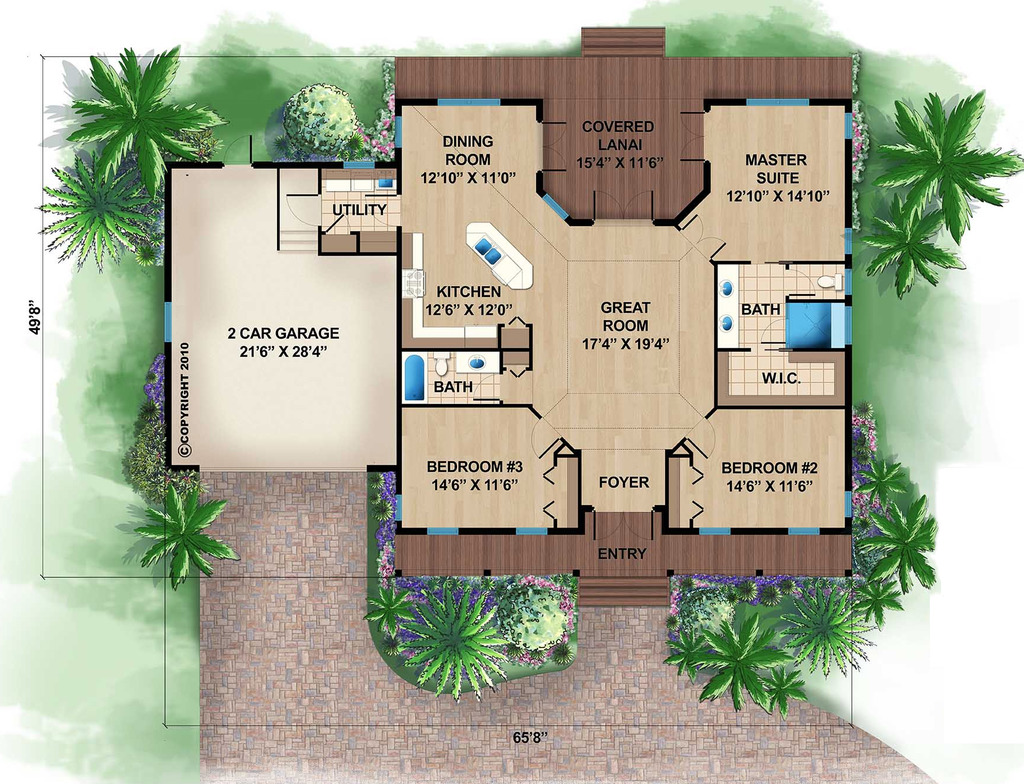door: (672, 107, 717, 172), (587, 509, 662, 548), (679, 211, 731, 262), (591, 187, 656, 226), (282, 191, 336, 233), (360, 189, 407, 233), (680, 409, 719, 460), (536, 120, 572, 174), (529, 410, 564, 460), (219, 134, 262, 170)
kitchen_bar: (456, 209, 560, 314)
large_sink: (818, 257, 854, 299), (426, 345, 455, 383)
small_sink: (711, 266, 739, 352), (450, 342, 501, 376)
tub: (399, 349, 430, 414)
twin_sink: (470, 233, 502, 265)
window: (738, 92, 817, 110), (429, 92, 506, 109), (537, 190, 570, 226), (781, 517, 826, 543), (507, 518, 560, 539), (423, 523, 463, 542), (841, 105, 856, 154), (695, 523, 735, 540), (842, 489, 861, 524)
